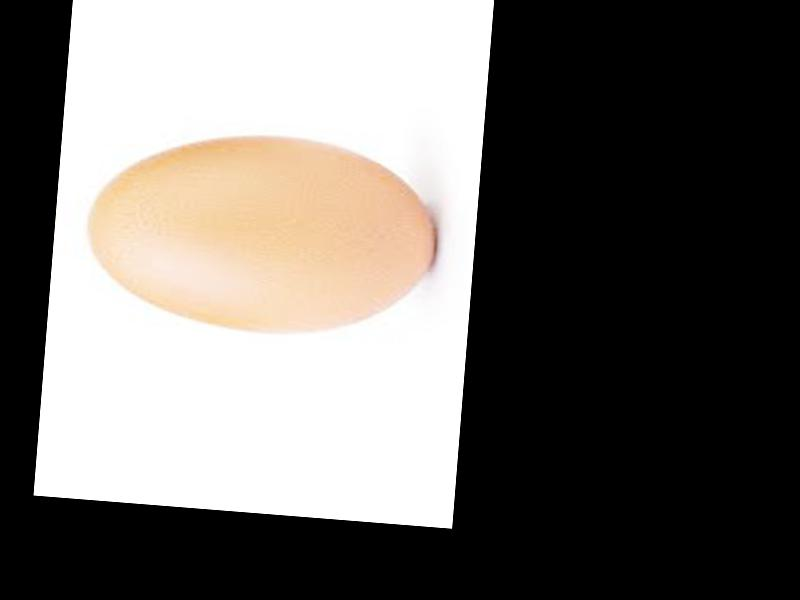Eggs: (80, 123, 442, 342)
